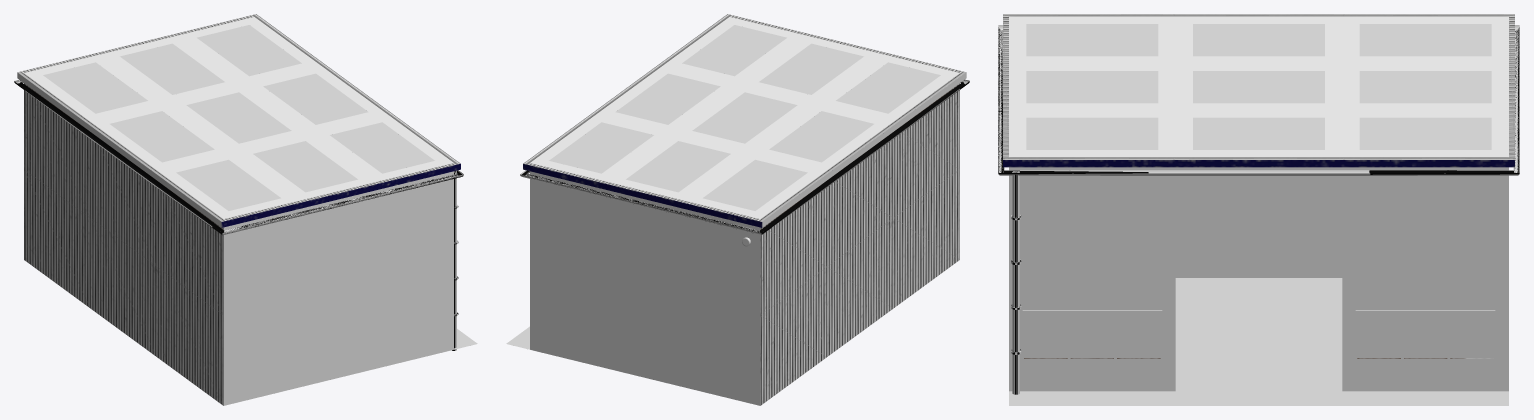
The model's file is industrial_unit_high.glb.
3 renders of one model, left to right at view 1: azimuth 30°, elevation 25°; view 2: azimuth 150°, elevation 25°; view 3: azimuth 270°, elevation 25°, orthographic. The views are drawn at different scales.
Parts seen in each view (by area): view 1: Unit 3, Unit 3_Baked, Unit 3 roof.001, Unit 3 roof; view 2: Unit 3, Unit 3_Baked, Unit 3 roof.001, Unit 3 roof; view 3: Unit 3, Unit 3 roof.001, Unit 3 roof, Unit 3_Baked.
Boxes of the visible parts, bbox=[...] form: Unit 3: bbox=[14, 72, 477, 405]; Unit 3_Baked: bbox=[14, 14, 462, 405]; Unit 3 roof.001: bbox=[43, 25, 434, 210]; Unit 3 roof: bbox=[24, 17, 453, 218]; Unit 3: bbox=[506, 72, 969, 405]; Unit 3_Baked: bbox=[521, 14, 969, 405]; Unit 3 roof.001: bbox=[549, 25, 940, 210]; Unit 3 roof: bbox=[530, 17, 959, 218]; Unit 3: bbox=[998, 25, 1519, 405]; Unit 3 roof.001: bbox=[1026, 24, 1491, 149]; Unit 3 roof: bbox=[1009, 16, 1508, 157]; Unit 3_Baked: bbox=[998, 14, 1519, 394].
Size of the model in its own units: 28.03 by 19.46 by 38.74.
Materials: 12 (1 with a texture image).
